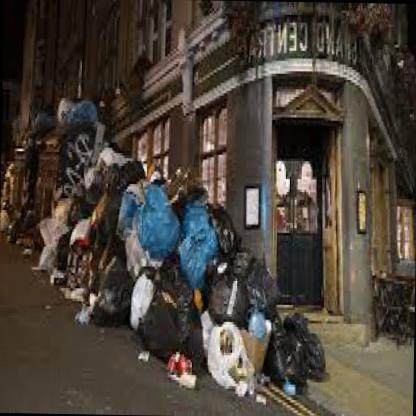Garbage: (49, 182, 272, 407), (130, 188, 179, 272), (128, 286, 176, 364), (76, 272, 130, 340), (208, 316, 256, 389), (242, 242, 282, 328), (282, 312, 323, 387), (181, 205, 217, 288), (34, 197, 64, 285), (50, 90, 98, 140), (60, 226, 92, 298), (156, 346, 198, 393), (209, 216, 243, 263), (214, 268, 238, 322), (90, 157, 114, 188)
